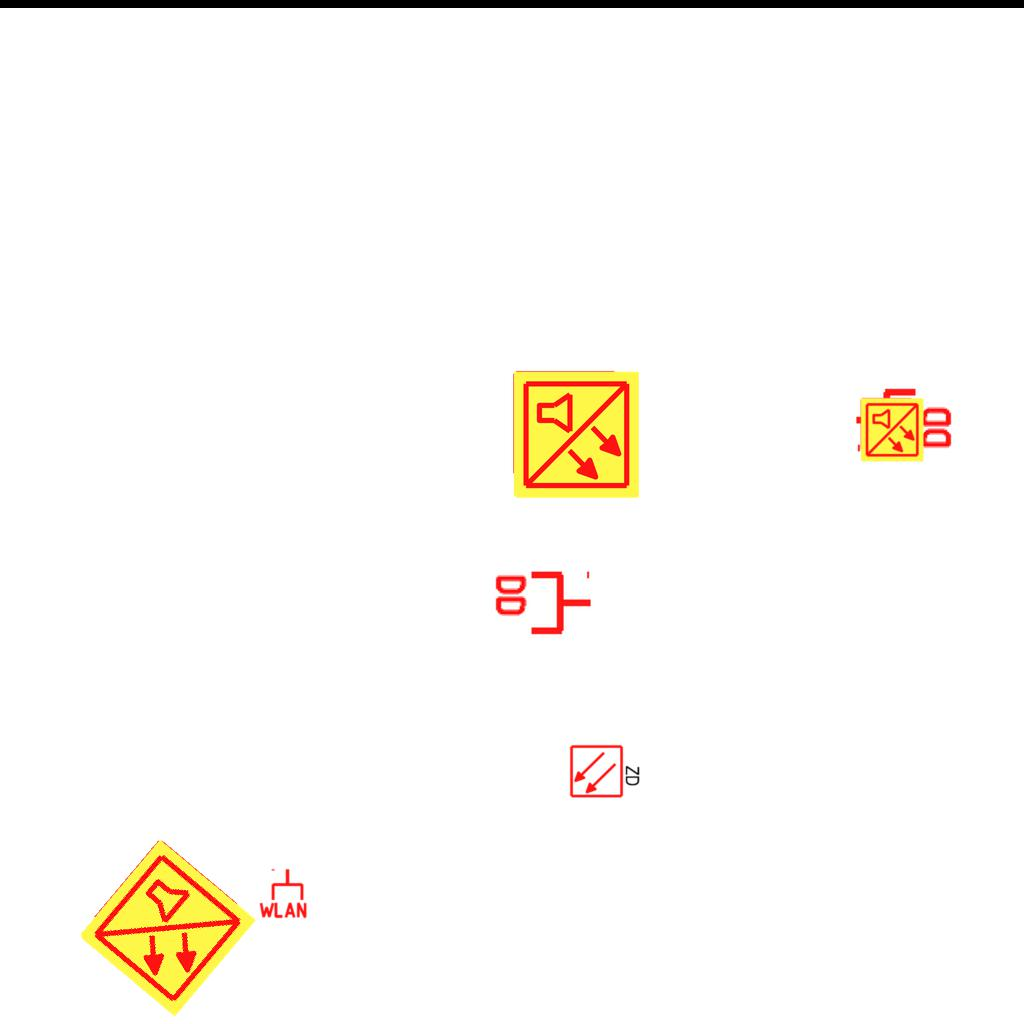Datenanschluss_zweifach: (491, 570, 594, 639), (853, 384, 956, 453)
OKW_Multisensormelder_(Kombination_optischer_Rauch-Kahlenmonoxid_Waerme-Melder): (74, 835, 260, 1021), (510, 369, 642, 501), (859, 397, 925, 463)
WLAN: (257, 867, 309, 919)
ZD_Melder_in_Zwischendecke_mit_Revisionsoeffnung_mind_40_x_40_cm: (569, 742, 643, 799)
